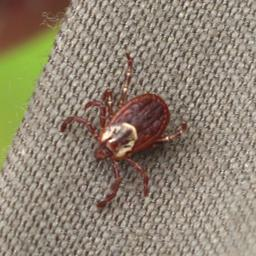Dermacentor variabilis: (60, 53, 186, 209)
